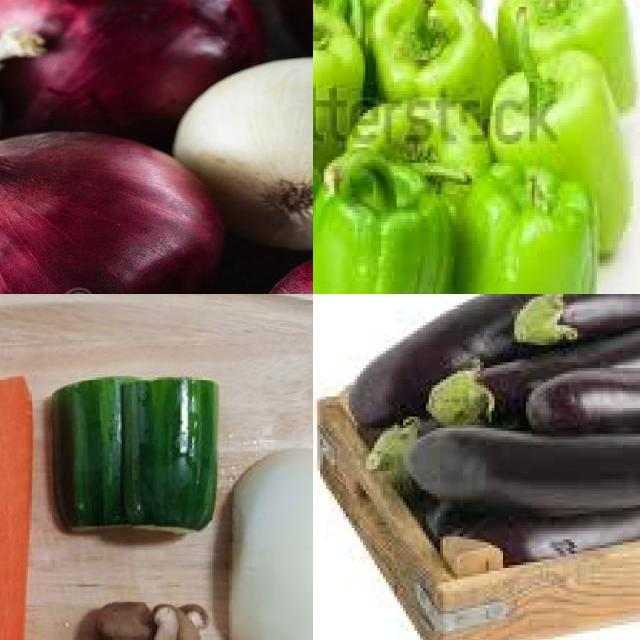bell_pepper: (314, 145, 458, 295), (456, 156, 611, 295)
carrot: (1, 376, 36, 640)
eggplant: (346, 295, 621, 423), (444, 312, 640, 415), (407, 426, 640, 511), (527, 366, 640, 429), (512, 295, 640, 343)
onion: (1, 112, 223, 295), (1, 1, 254, 137), (163, 51, 314, 248), (224, 445, 314, 640)
